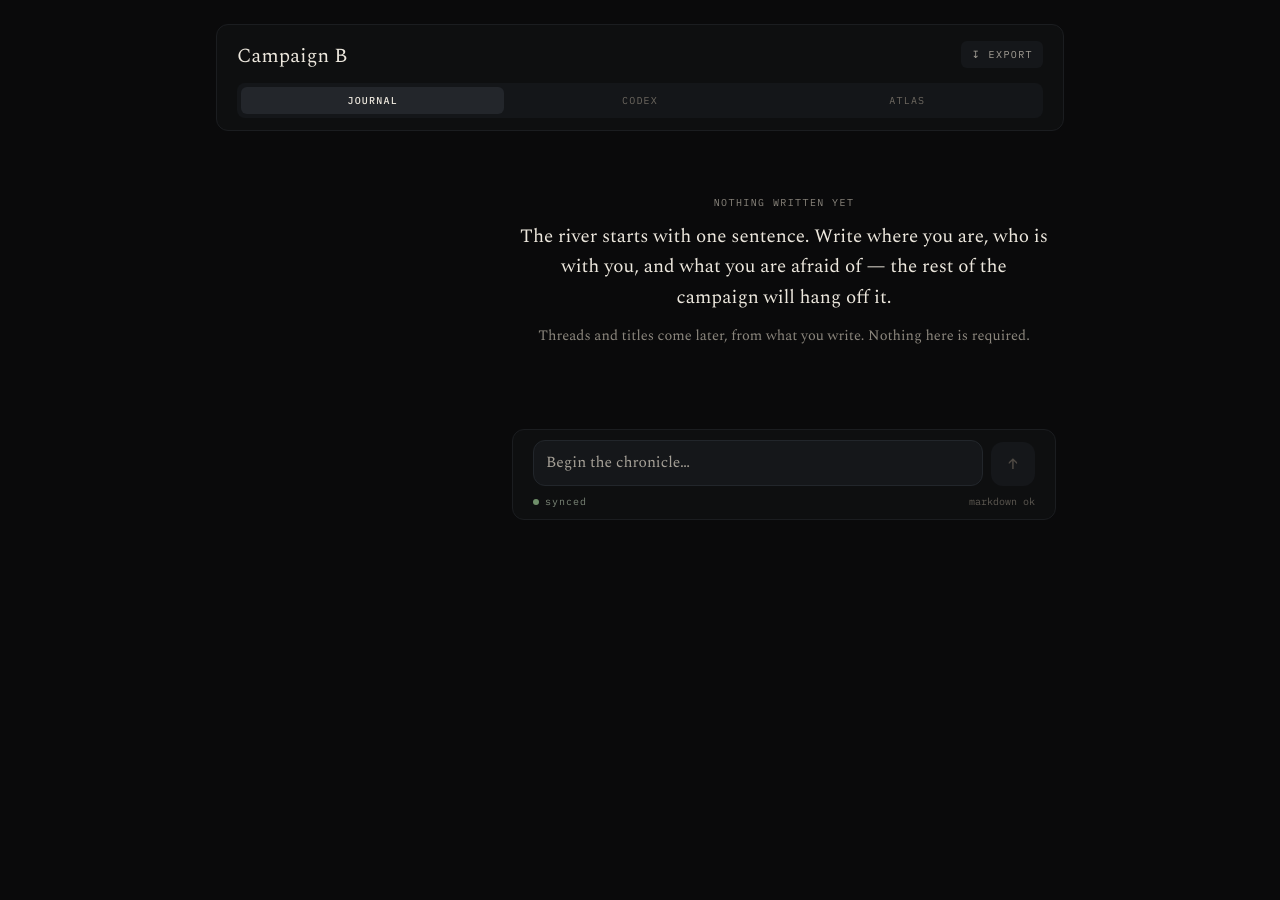
Test case: Campaign delete — live counts, fallback selection (Lap 6) › deleting the selected campaign falls back to the most recent remaining campaign
This screenshot has width=1280, height=900.
Check: the text "Nothing written yet" is shown, box [714,195,854,210]
Click the button "Campaign B" at [292, 56], box [237,41,348,71]
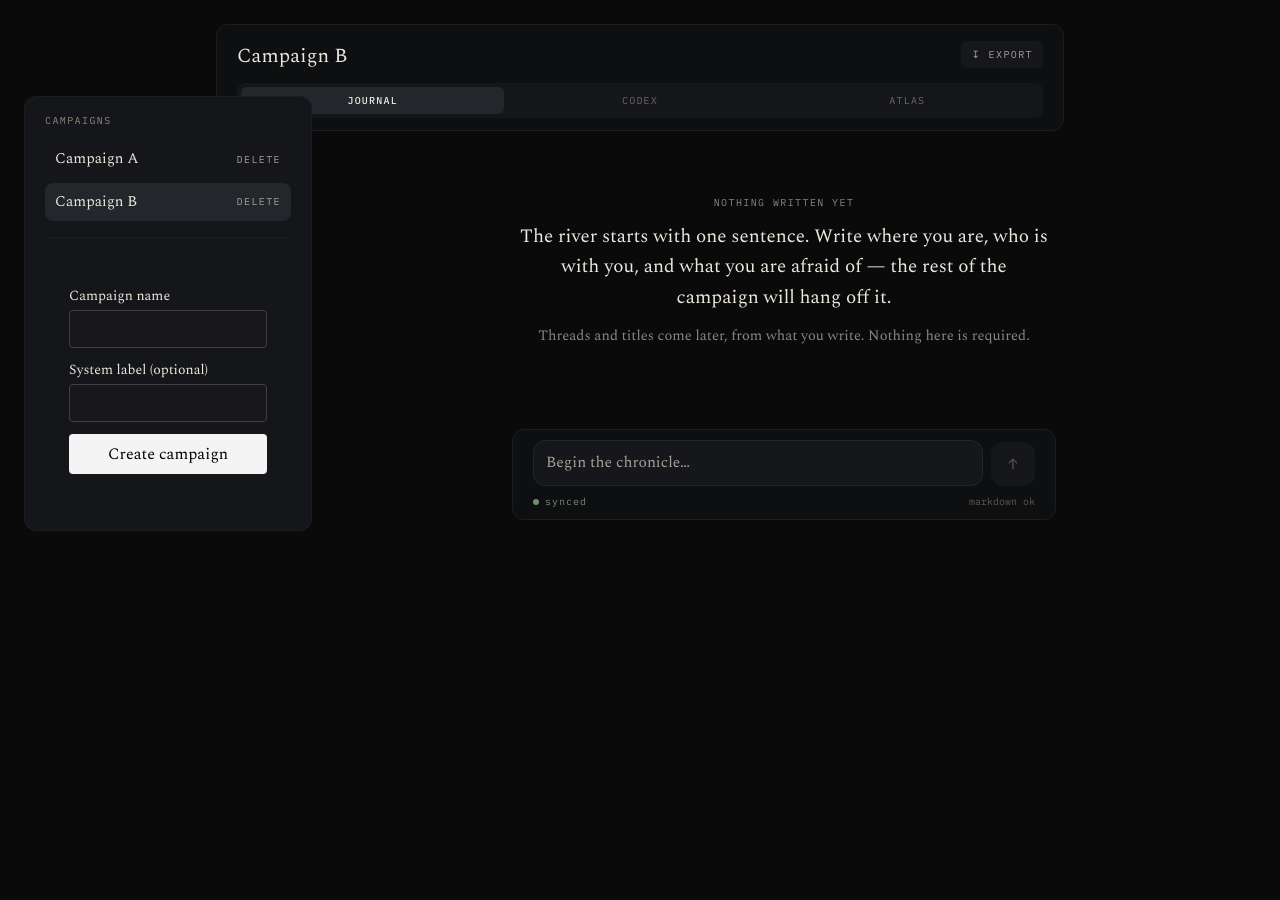
Check: the text "Campaign A" is shown, box [55,148,138,170]
Click the button with aria-label "Delete Campaign B" at [255, 202], box [229,194,281,209]
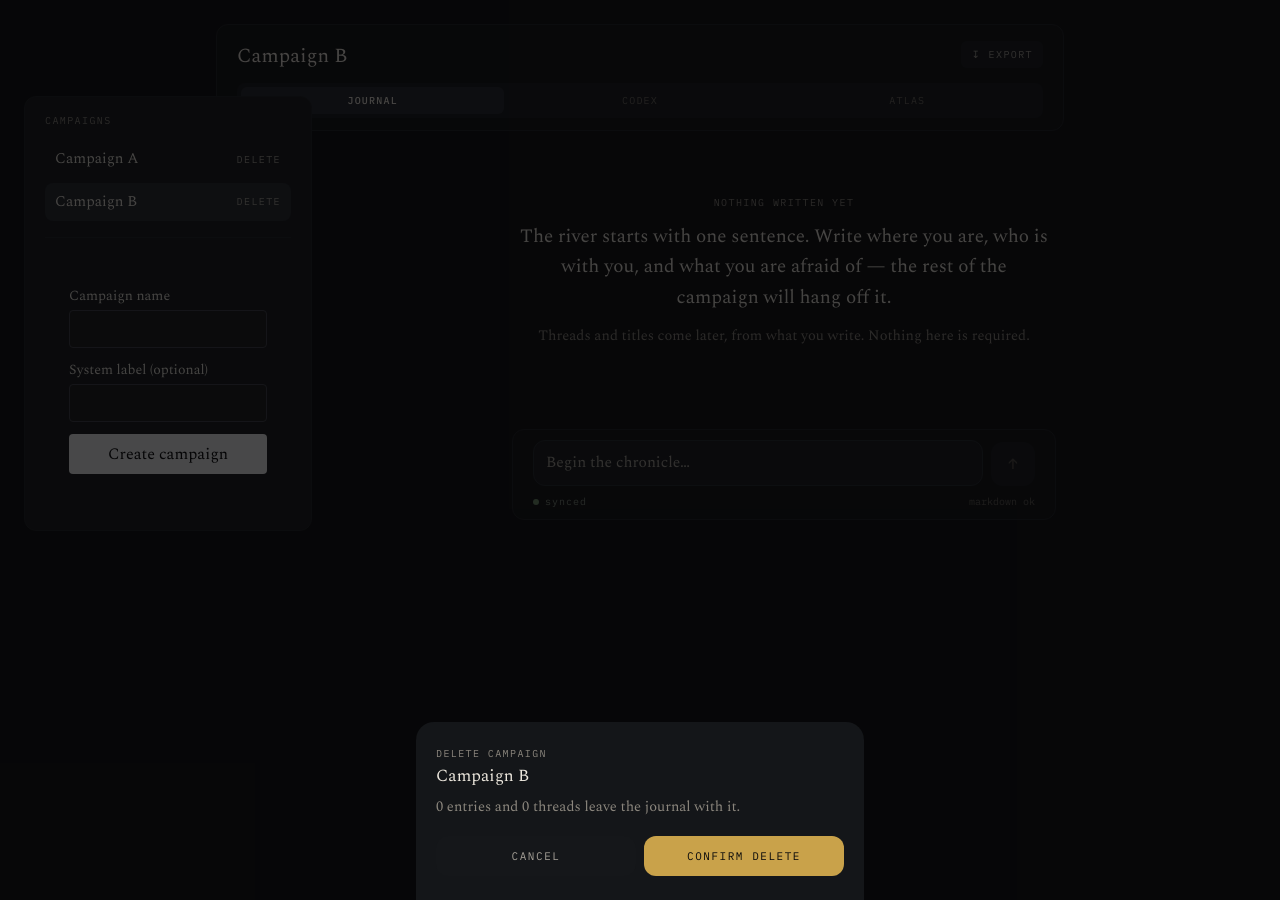
Check: the text "Delete campaign" is shown, box [436,747,547,760]
Check: the button "Confirm delete" is enabled
Click the button "Confirm delete" at [744, 856], box [644,836,844,876]
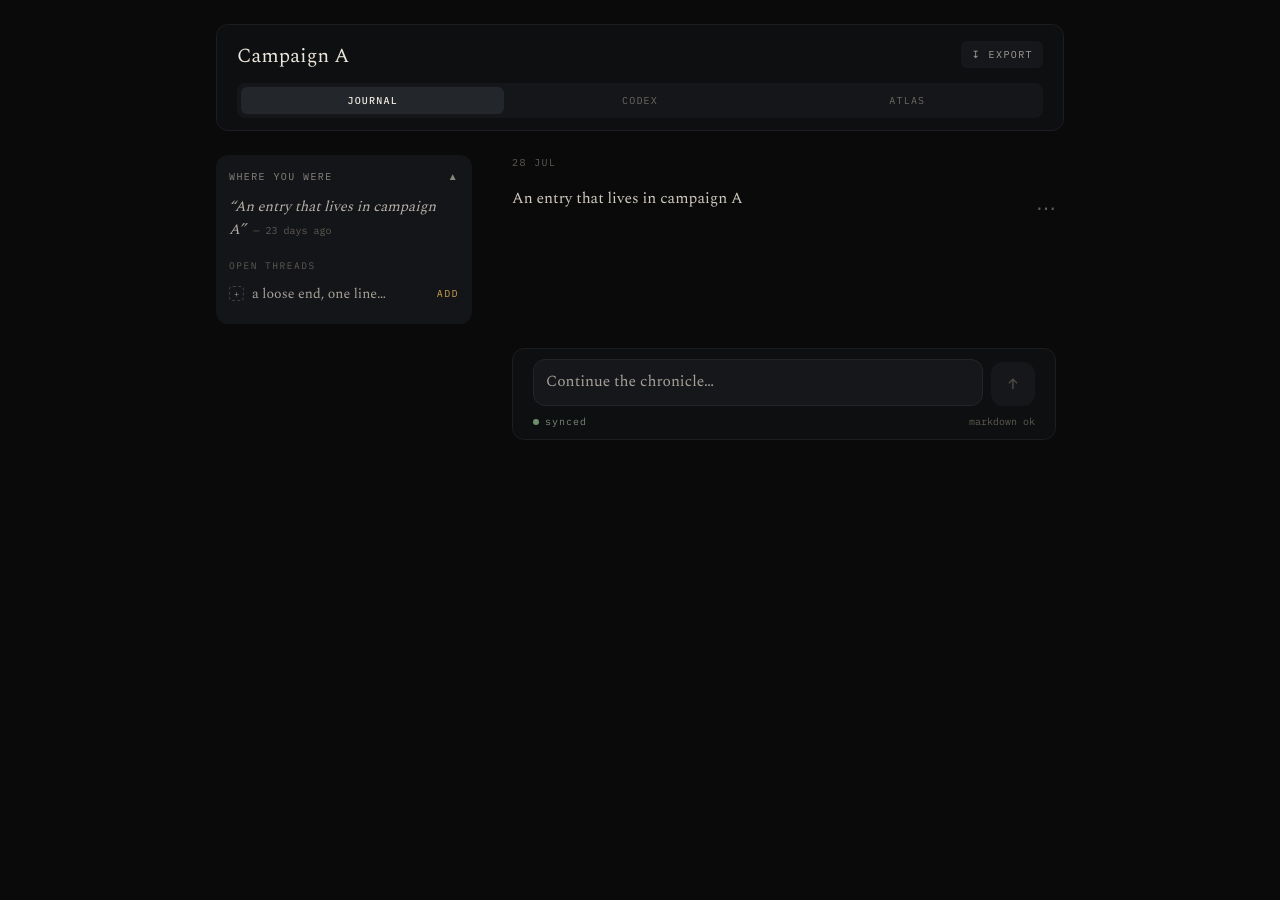
Check: the text "An entry that lives in campaign A" is shown, box [512,187,743,210]
